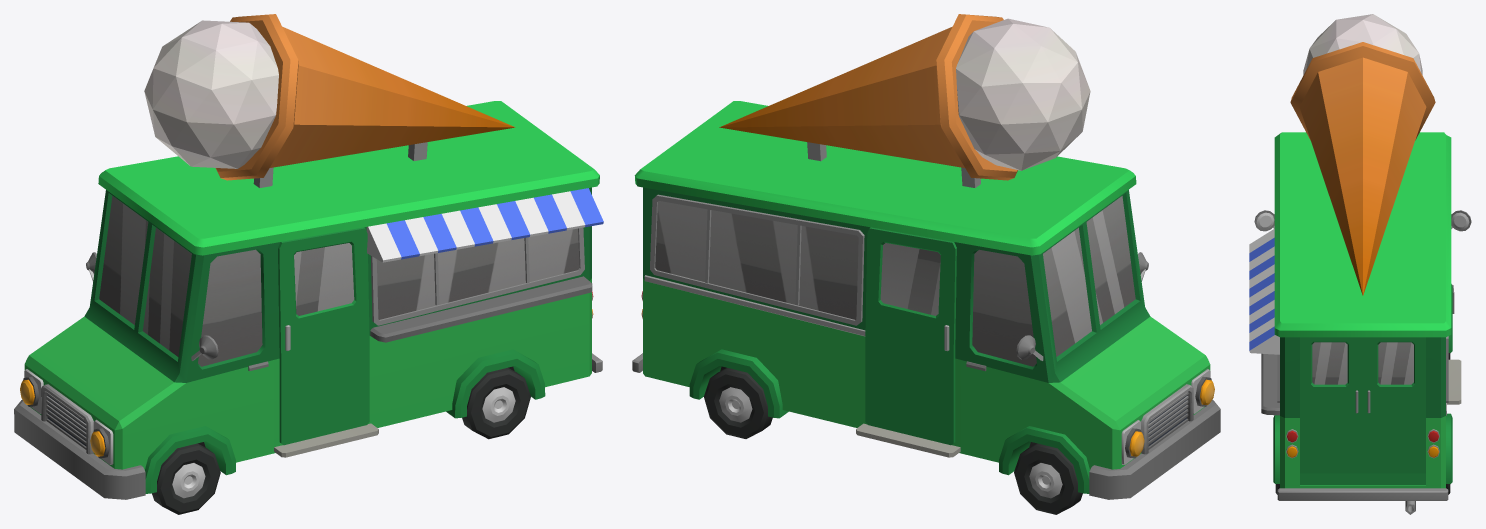
Rendered from IceTruck_2_G.fbx.
3 views of the same model, side by side, from view 1: azimuth 30°, elevation 25°; view 2: azimuth 150°, elevation 25°; view 3: azimuth 270°, elevation 25° (orthographic). The views are drawn at different scales.
Visible parts, largest first — view 1: IceTruck_2_G, RL, FL; view 2: IceTruck_2_G, FR, RR; view 3: IceTruck_2_G.
Boxes of the visible parts, left/top/right/bottom form: IceTruck_2_G: left=14, top=14, right=603, bottom=499; RL: left=462, top=367, right=530, bottom=439; FL: left=152, top=443, right=220, bottom=514; IceTruck_2_G: left=632, top=14, right=1220, bottom=499; FR: left=1014, top=443, right=1082, bottom=514; RR: left=704, top=368, right=772, bottom=438; IceTruck_2_G: left=1249, top=14, right=1471, bottom=514.
Size of the model in its own units: 416 by 343 by 184.
